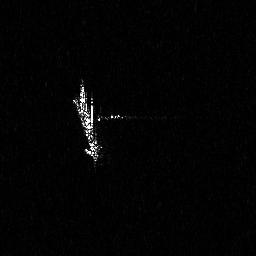ship: (70, 77, 125, 166)
